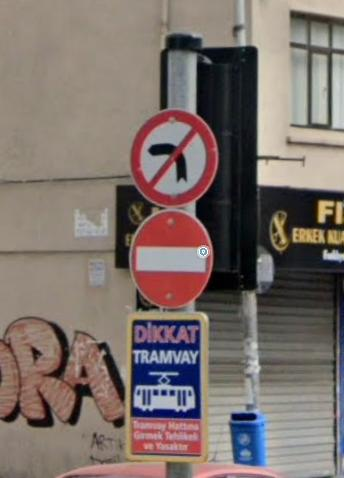leftturnsareforbidden: (136, 111, 216, 201)
